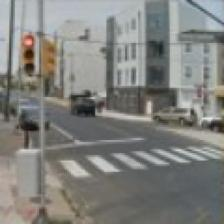crosswalk: (58, 144, 222, 200)
